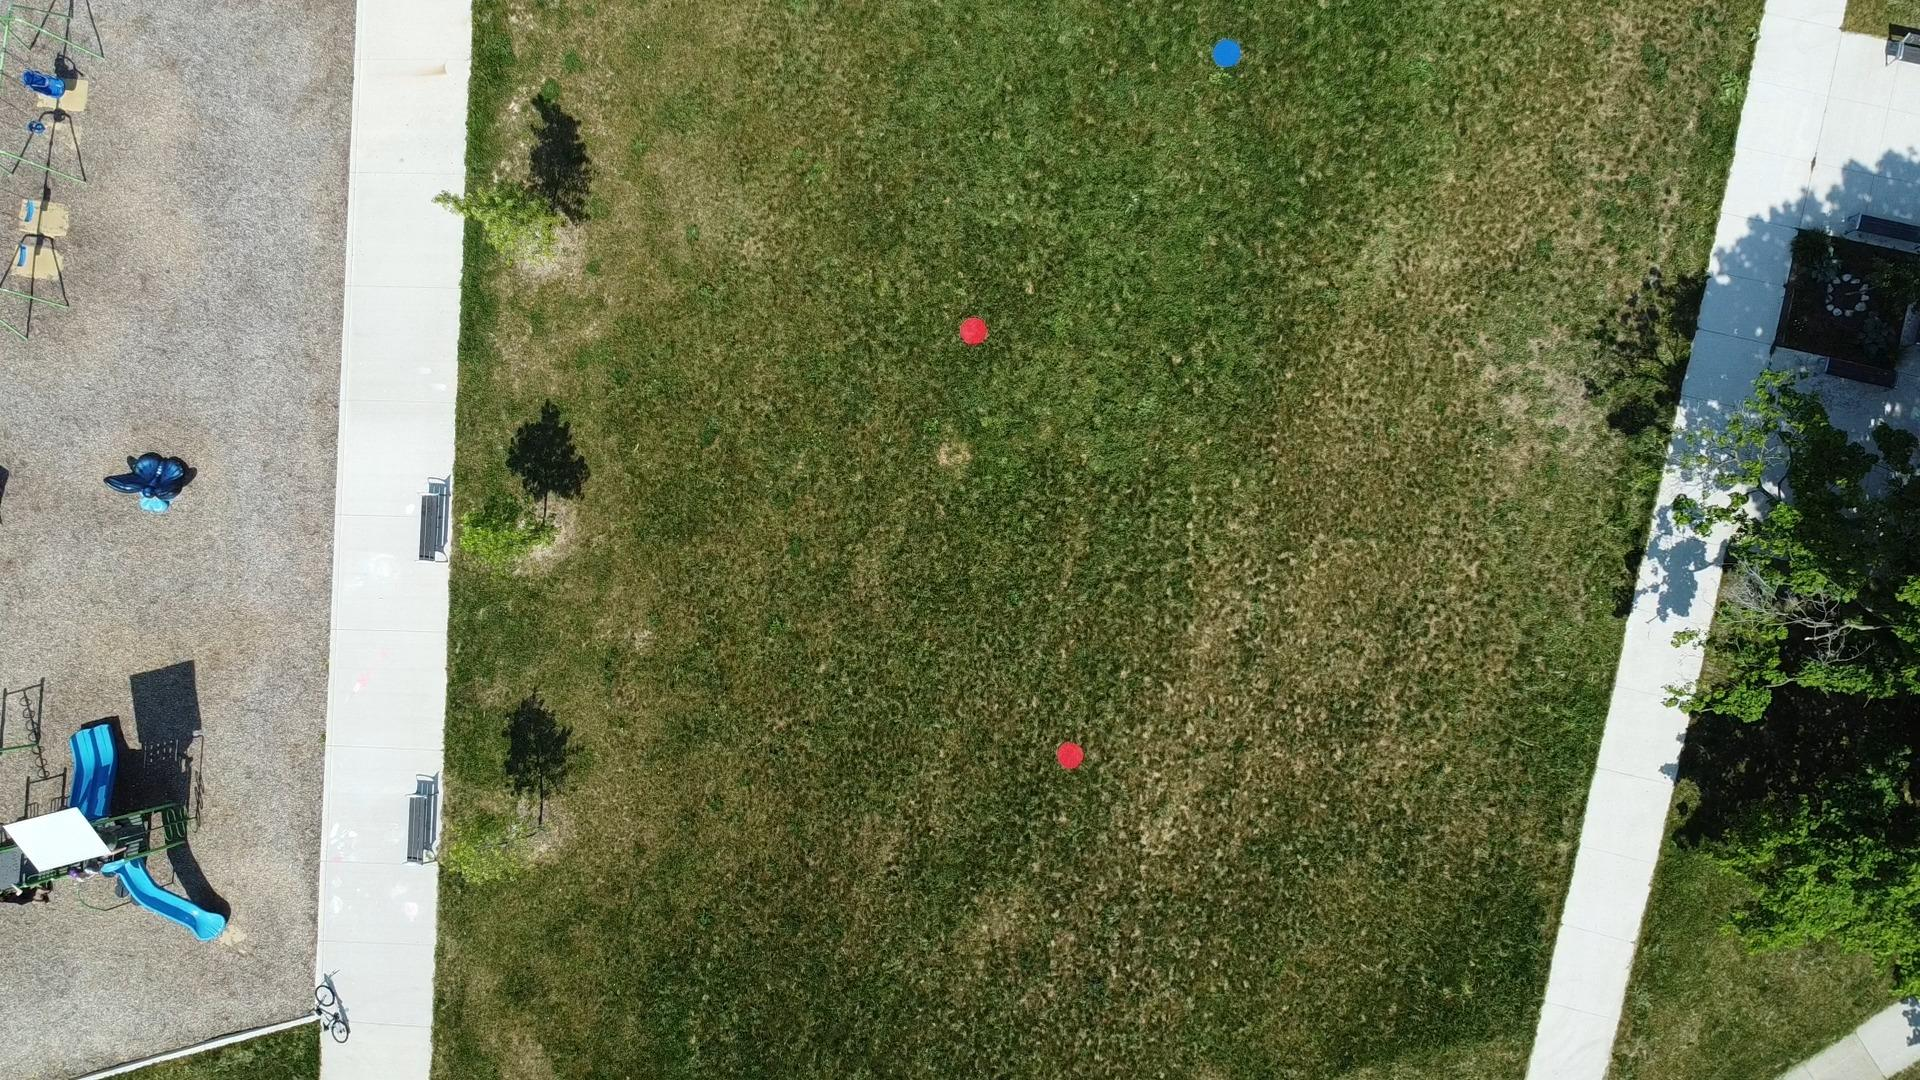Blue: (1211, 38, 1244, 69)
Red: (957, 315, 990, 347), (1056, 740, 1085, 770)
